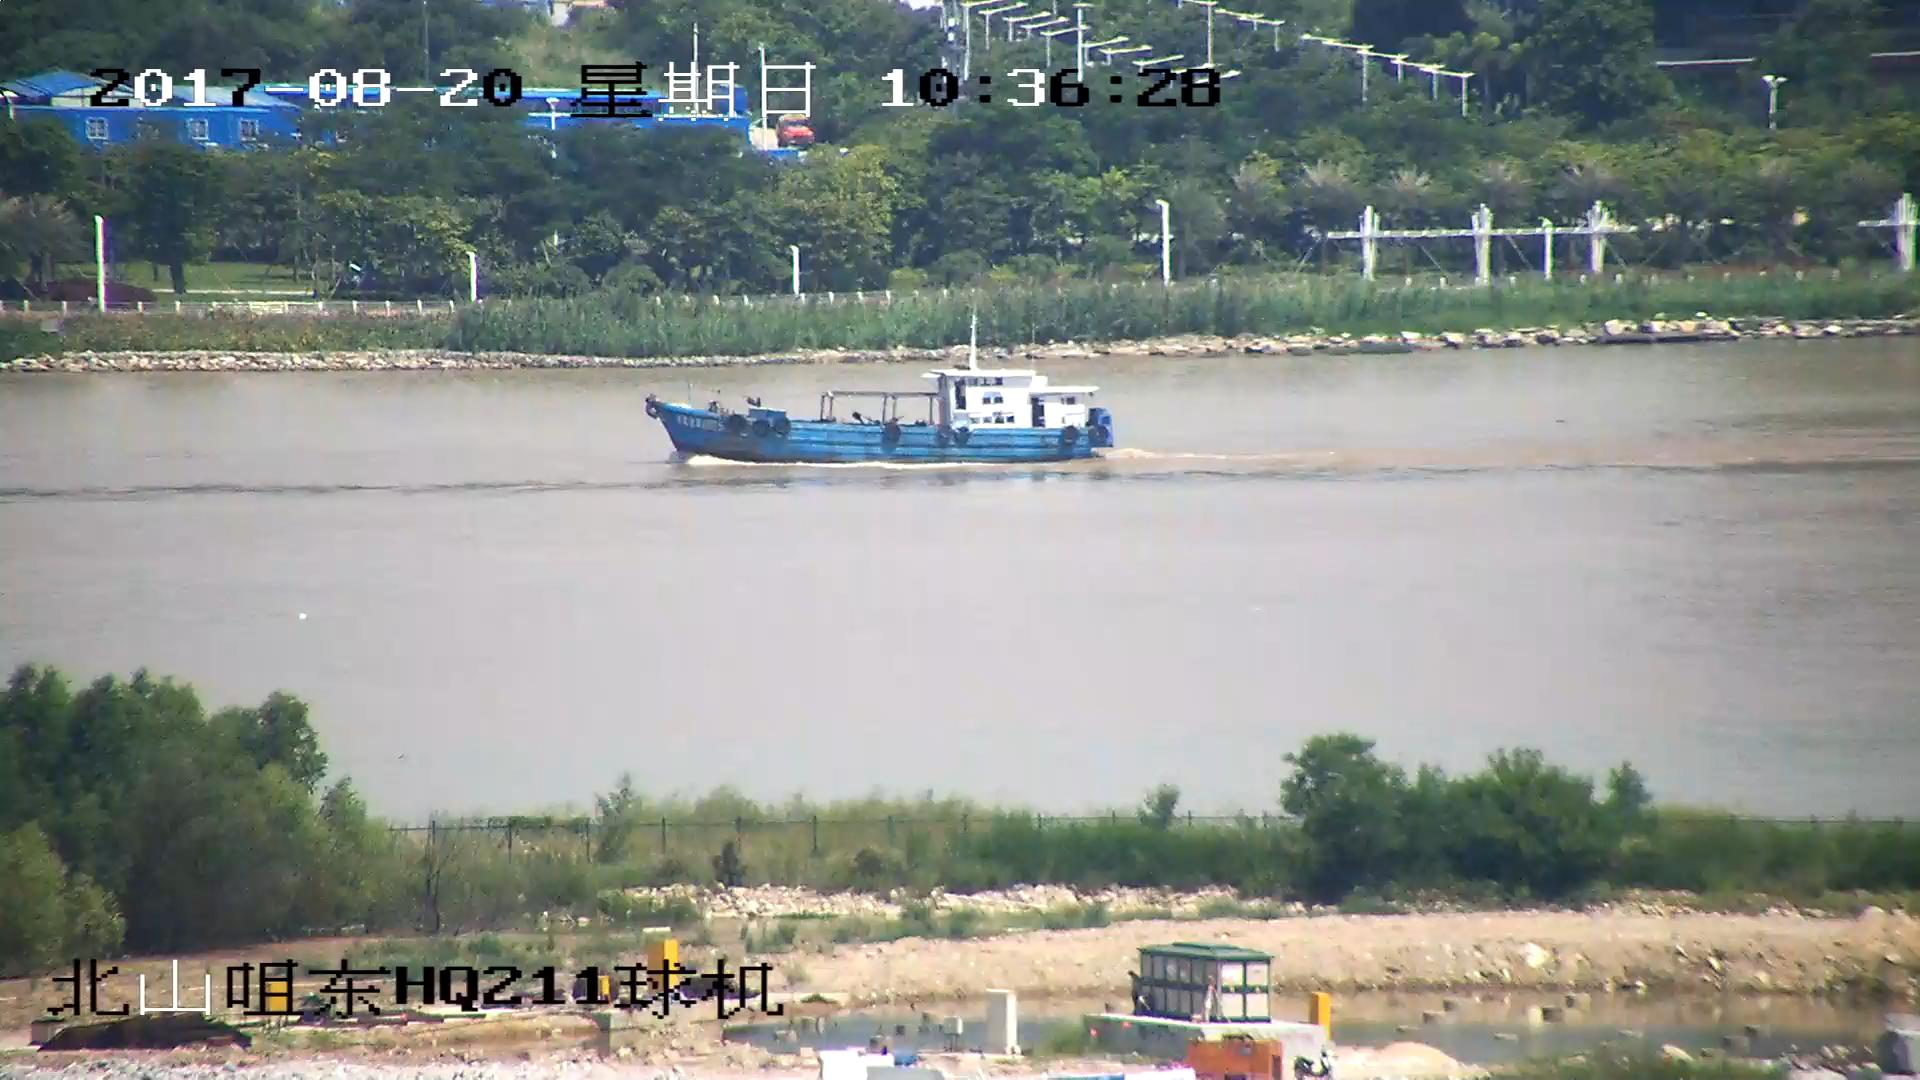fishing boat: (646, 303, 1117, 467)
